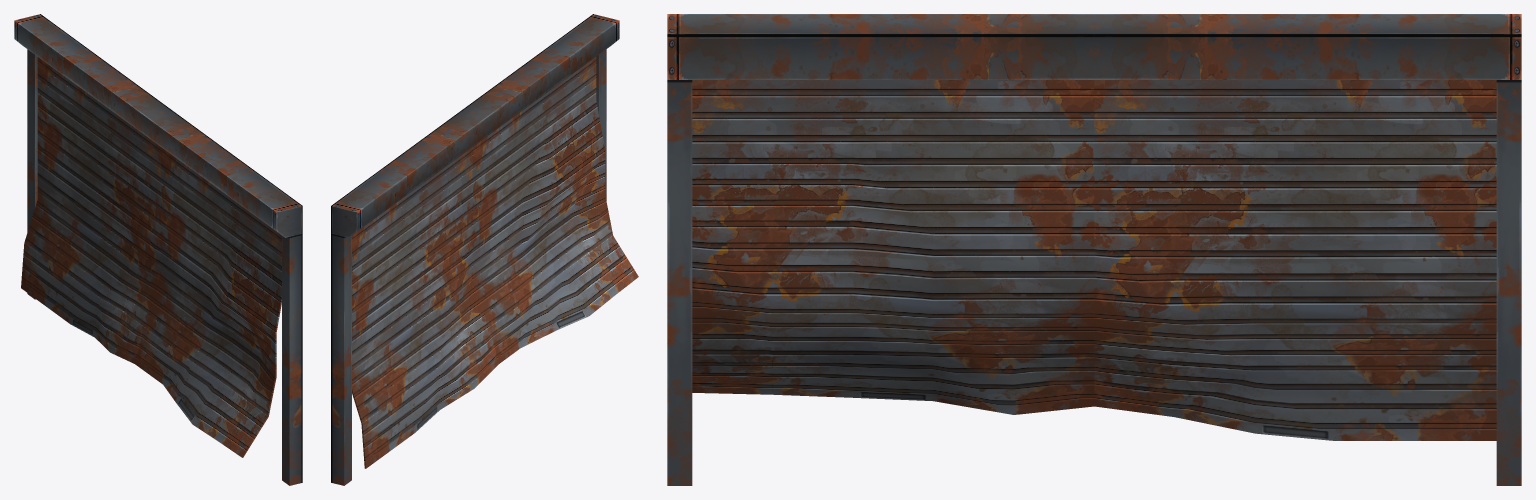
File: rollerShutter01_6m_B.fbx
The picture shows the model from 3 angles, left to right: view 1: azimuth 30°, elevation 25°; view 2: azimuth 150°, elevation 25°; view 3: azimuth 270°, elevation 25°; orthographic projection. The views are drawn at different scales.
Parts seen in each view (by area): view 1: rollerShutter01_6m_B; view 2: rollerShutter01_6m_B; view 3: rollerShutter01_6m_B.
Part boxes in pixels (<box>): rollerShutter01_6m_B: <box>14,14,302,485</box>; rollerShutter01_6m_B: <box>331,14,638,485</box>; rollerShutter01_6m_B: <box>667,14,1521,485</box>.
Size of the model in its own units: 60.4 by 300 by 515.
